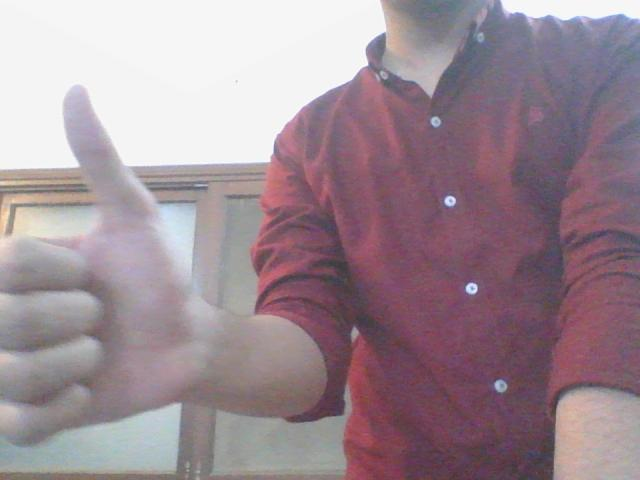thumbs-up: (2, 81, 180, 456)
